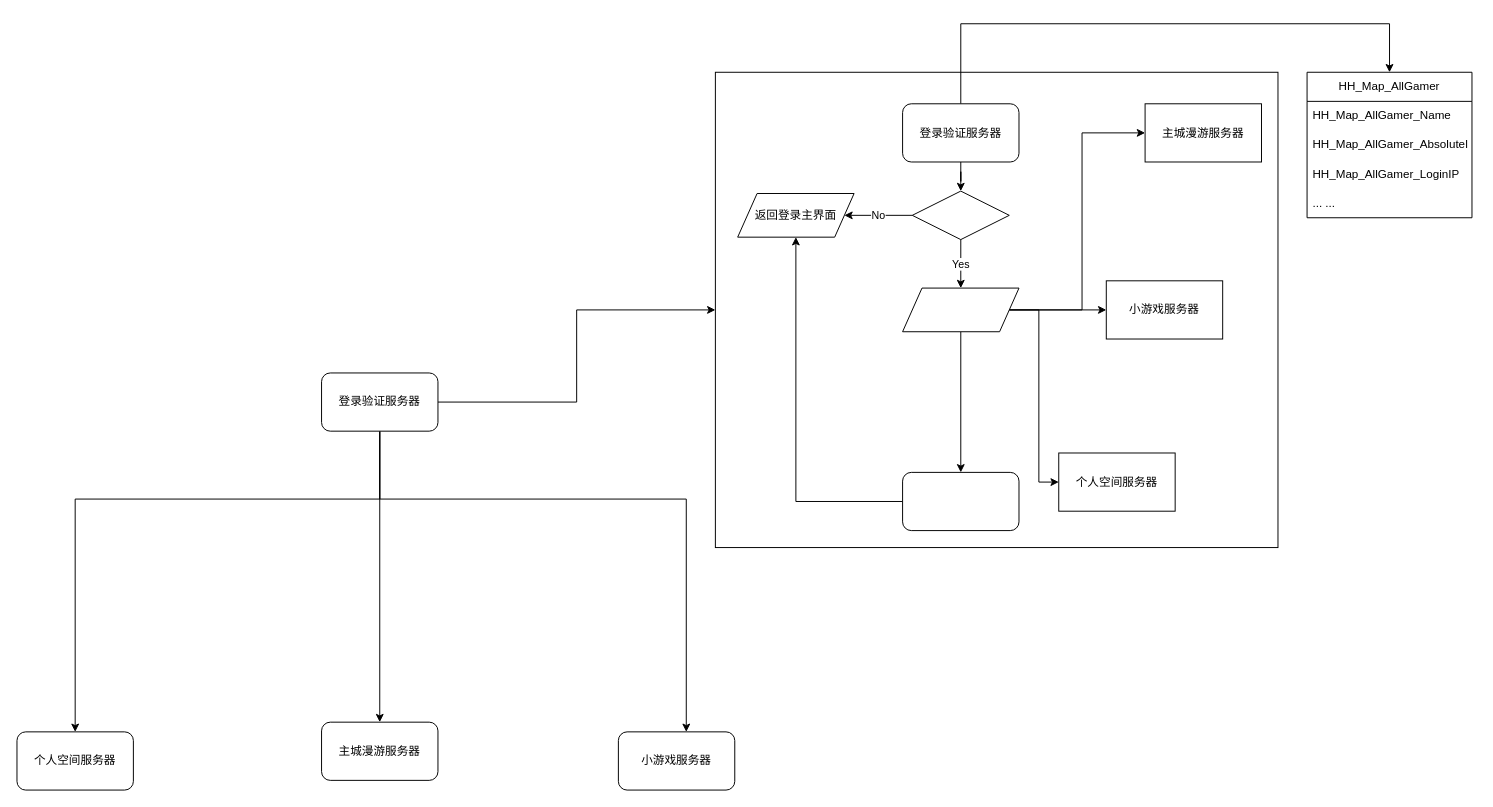
This 1493x807 diagram has some shape labels left out. Each missing label, with the box of its shape:
是否通过验证: (911, 190, 1009, 240)
进入服务器选择界面: (902, 287, 1019, 332)
退出登录: (902, 471, 1019, 531)
